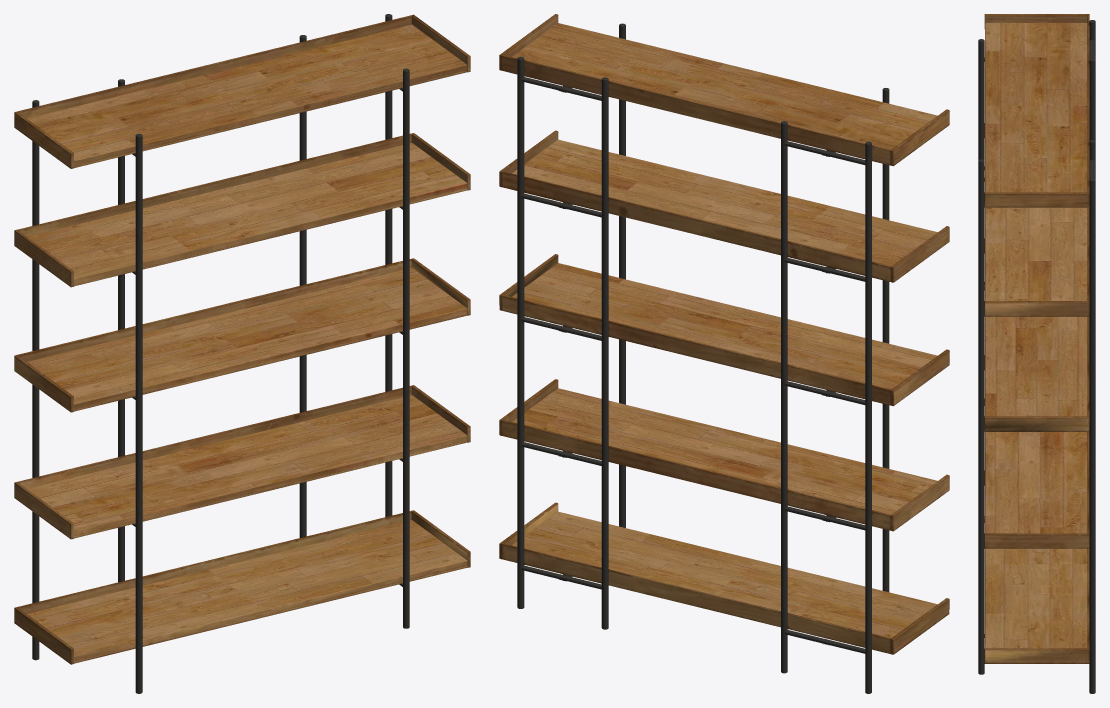
The model's file is bookshelf_abo_B07HSLTLGP.glb.
3 renders of one model, left to right at view 1: azimuth 30°, elevation 25°; view 2: azimuth 150°, elevation 25°; view 3: azimuth 270°, elevation 25°, orthographic. The views are drawn at different scales.
Visible parts, largest first — view 1: RootNode; view 2: RootNode; view 3: RootNode.
Boxes of the visible parts, left/top/right/bottom form: RootNode: left=14, top=14, right=470, bottom=693; RootNode: left=499, top=14, right=949, bottom=693; RootNode: left=978, top=14, right=1095, bottom=693.
Size of the model in its own units: 1.37 by 1.83 by 0.3794.
Materials: 1 (1 with a texture image).
